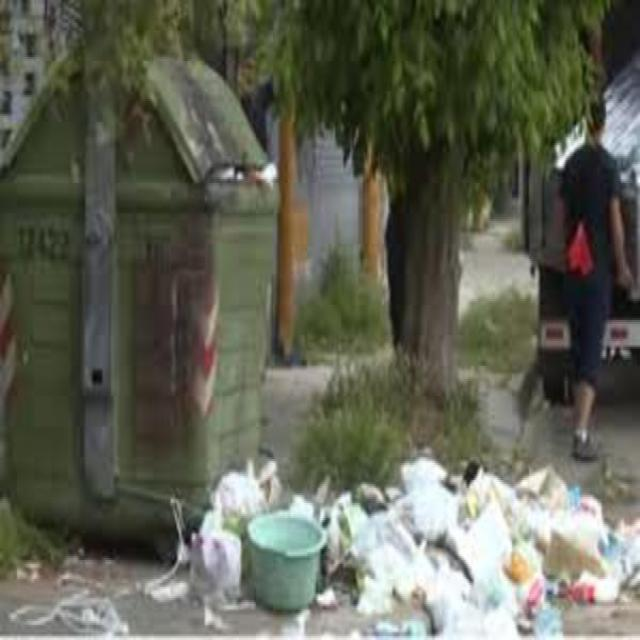garbage: (23, 480, 639, 638), (189, 111, 275, 198)
